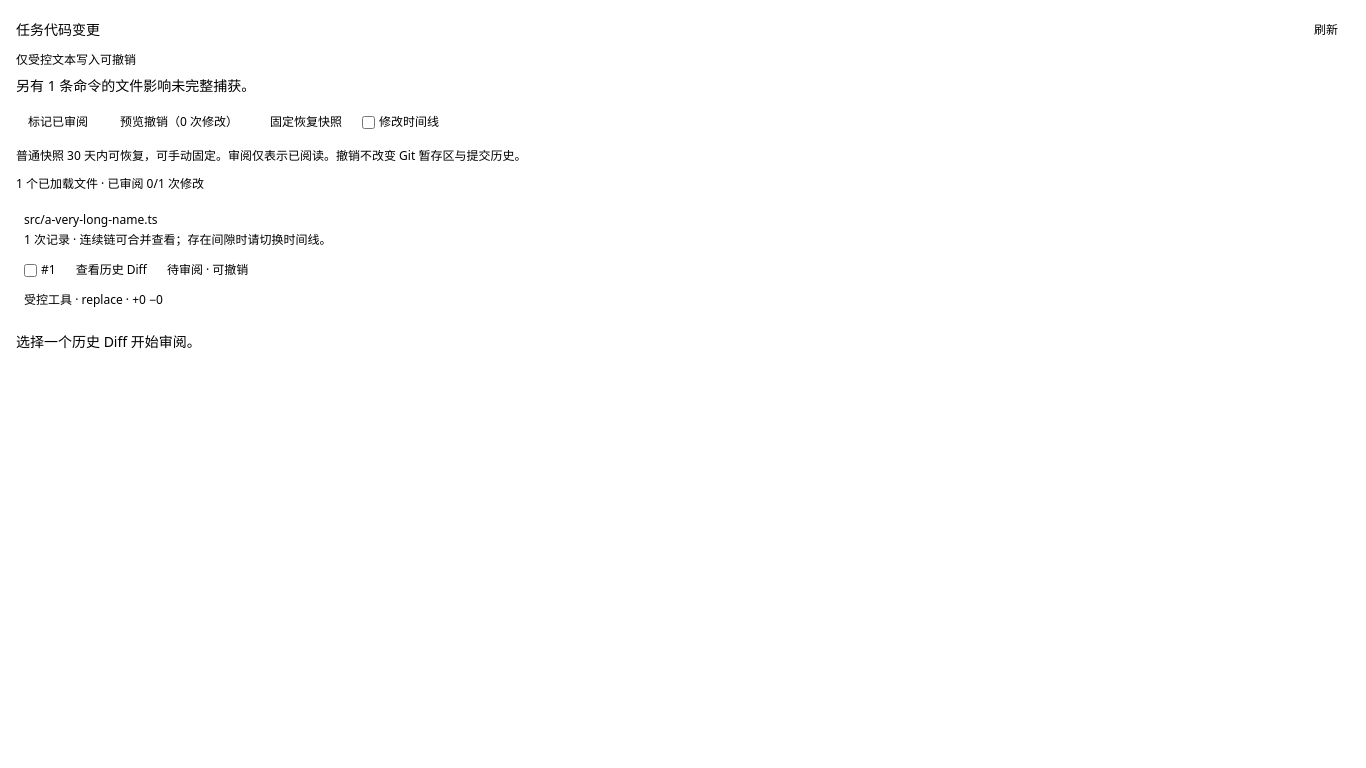
Test case: scoped changes review and undo › queries the persisted operation after a lost response and remount
Expected: the text "src/a-very-long-name.ts" is shown, [24, 211, 158, 228]
Click the checkbox named "选择 src" at (30, 270), box [24, 264, 37, 276]
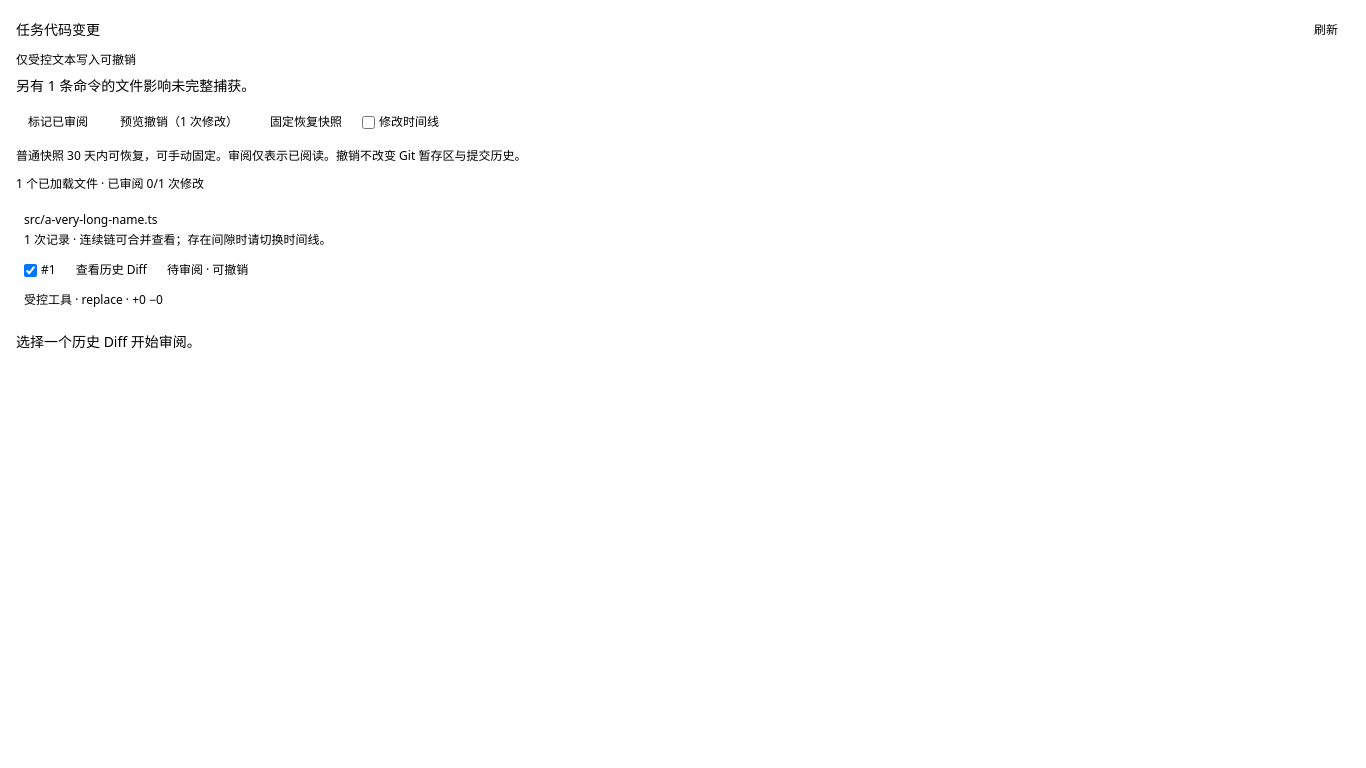
Click the button "预览撤销（1 次修改）" at (179, 122), box [108, 108, 250, 136]
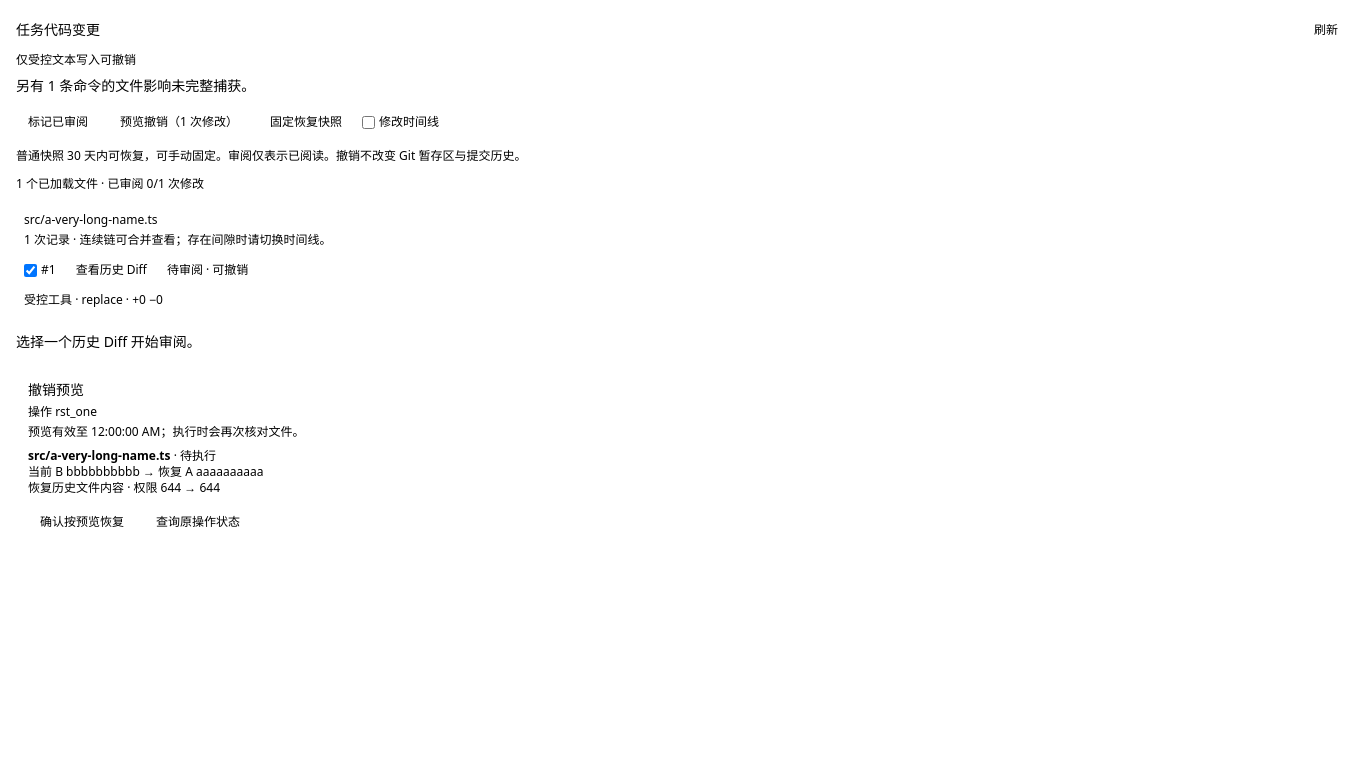
Click the button "确认按预览恢复" at (82, 522), box [28, 508, 136, 536]
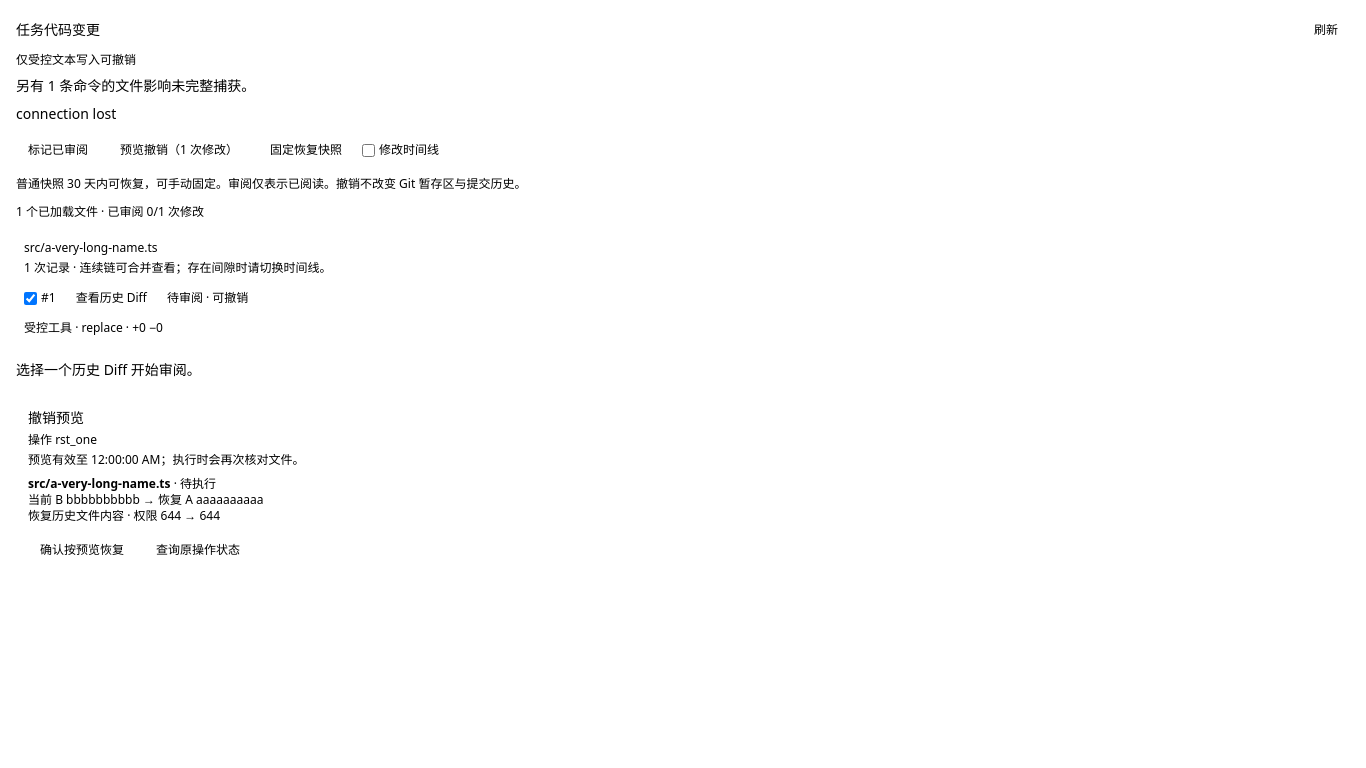
Result: the text "connection lost" is shown at [16, 104, 116, 123]
